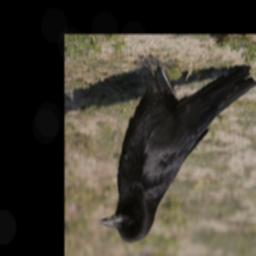Crow: (98, 54, 256, 244)
